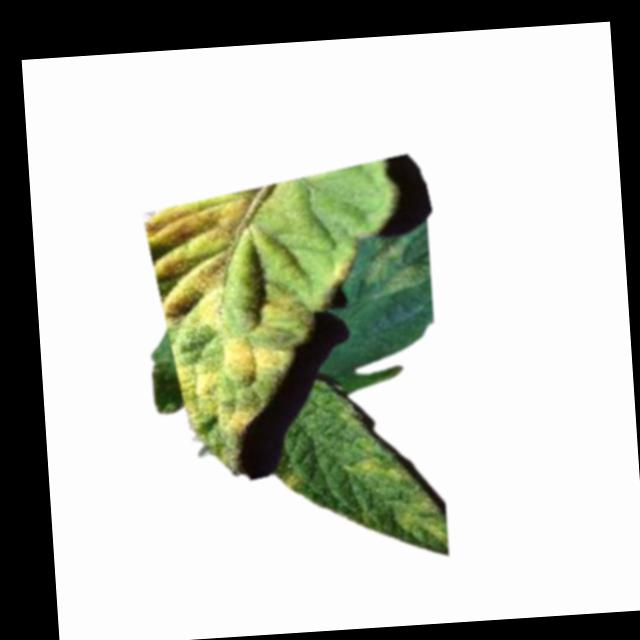Leaf_Mold: (141, 179, 364, 442), (346, 453, 410, 488)
